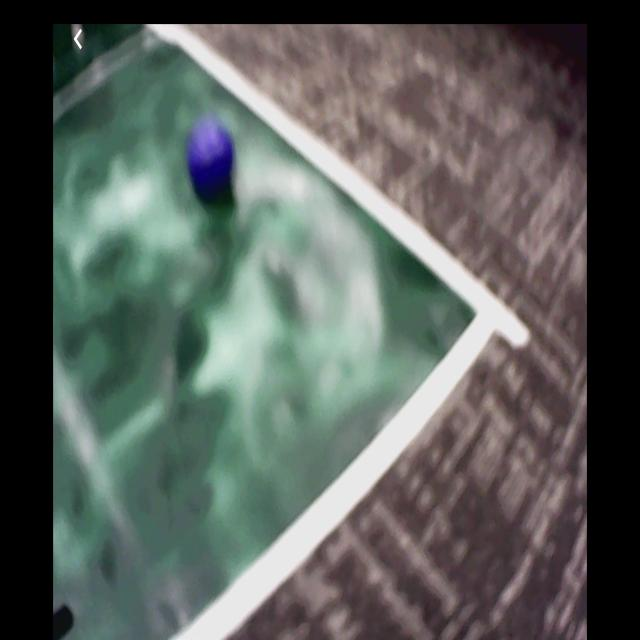ball: (186, 123, 236, 195)
